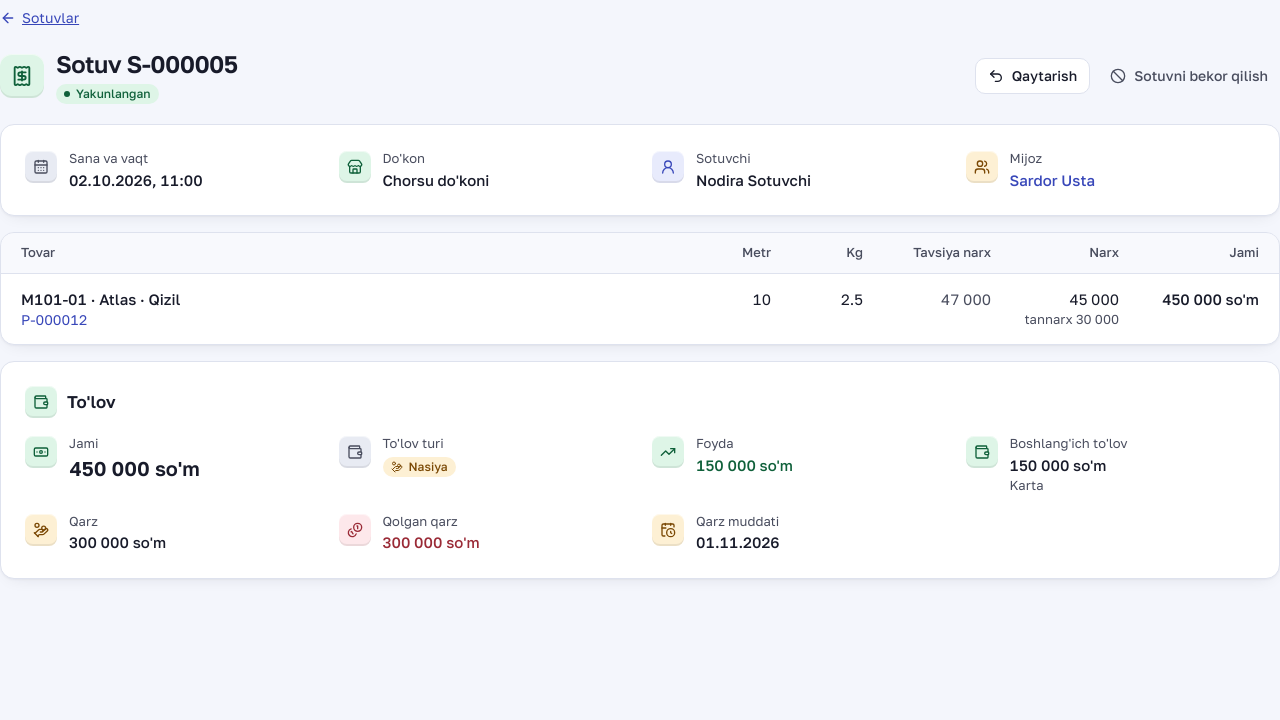
Test: Sotuv kartochkasi › qaytarish: summa avval qarzdan ayriladi, qolgani pul bilan
Click the button "Qaytarish": (1032, 76) [975,58,1090,94]
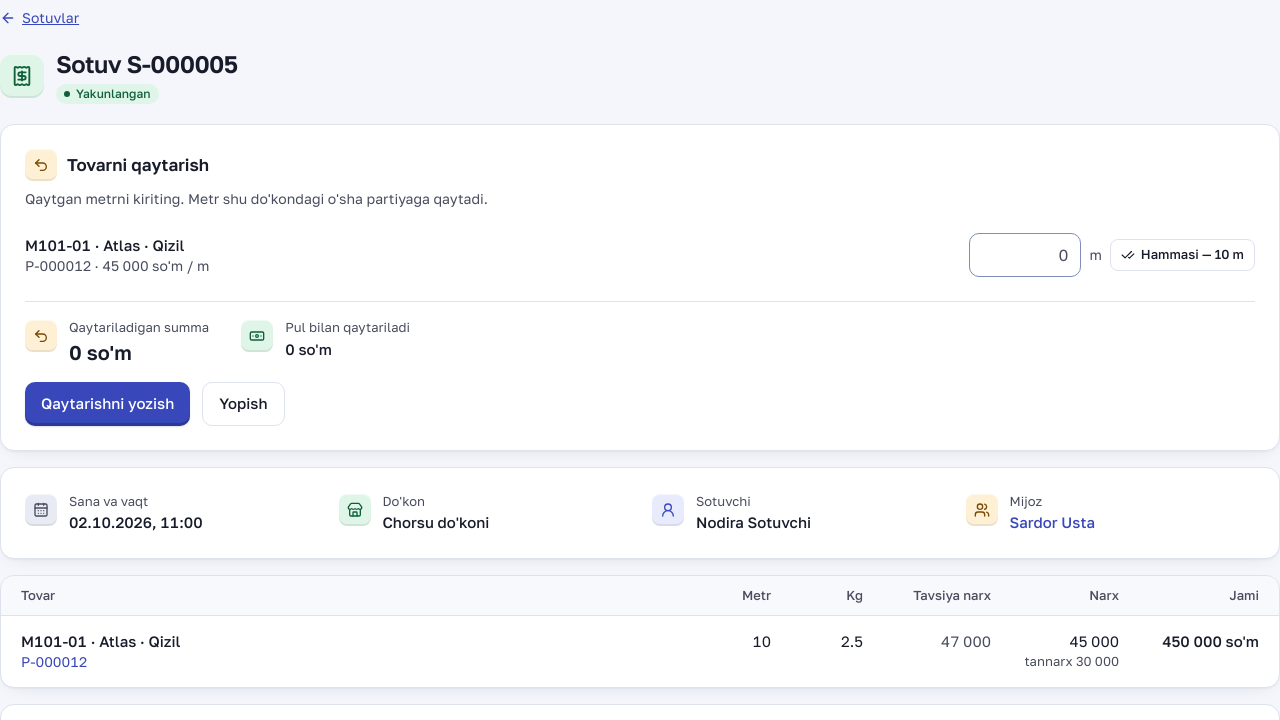
In the field named "M101-01 · Atlas · Qizil: qaytgan metr": (1025, 255) [969,233,1081,277], type "4"
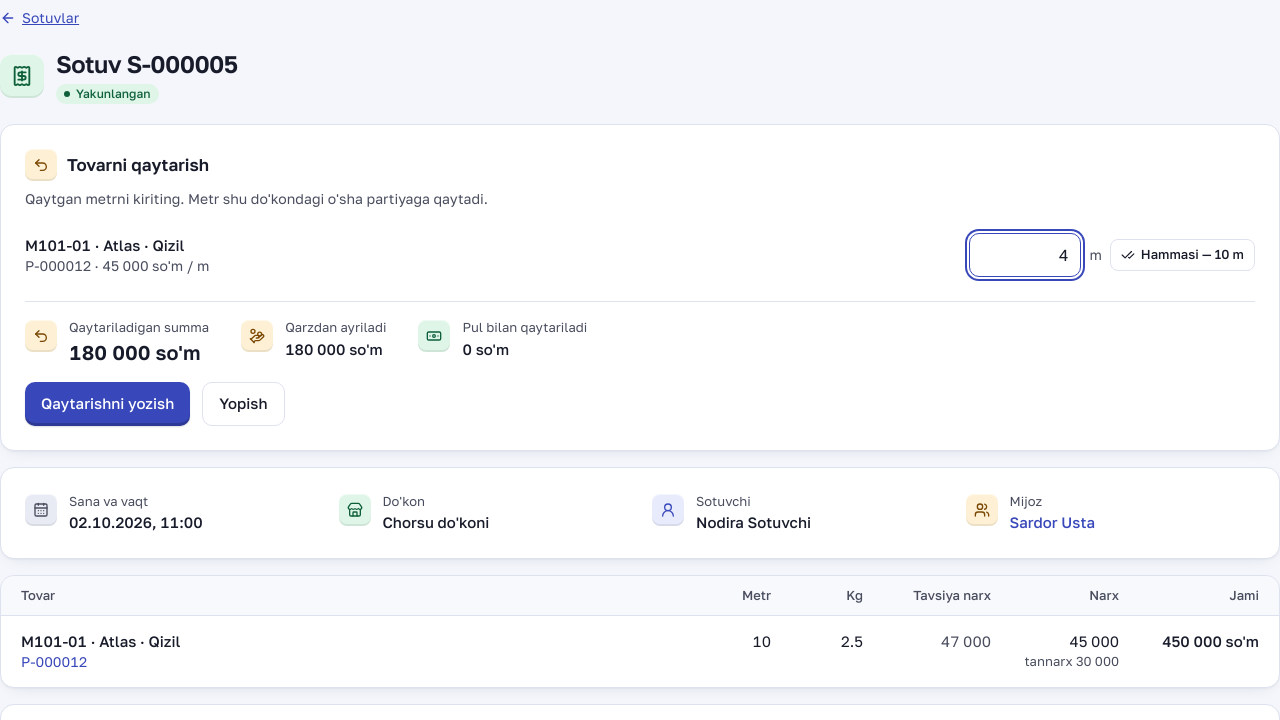
Expected: the element "Pul qanday qaytariladi" is not shown
Expected: the element showing "180 000 so'm" below "Qarzdan ayriladi" is shown, [285,338,386,360]
Click the button "Hammasi — 10 m": (1182, 255) [1110,239,1255,271]
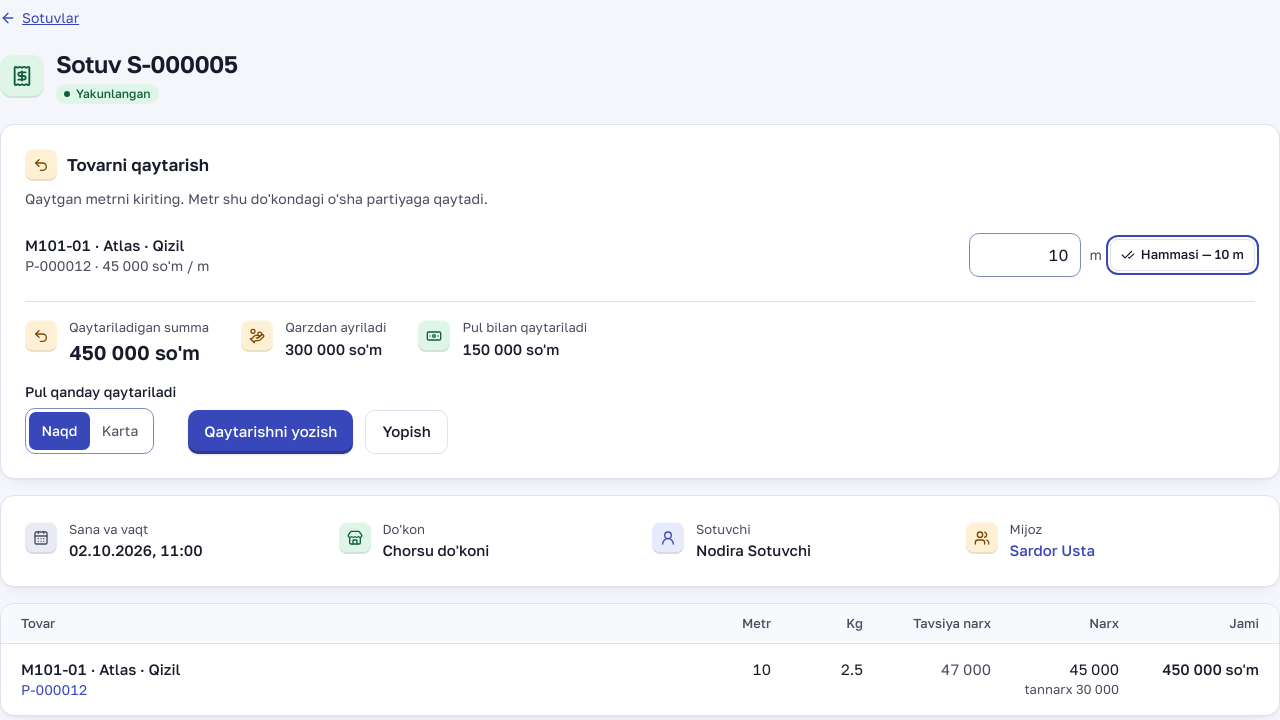
Expected: the field named "M101-01 · Atlas · Qizil: qaytgan metr" holds "10", [969,233,1081,277]
Expected: the element showing "300 000 so'm" is shown, [285,338,386,360]
Expected: the element showing "150 000 so'm" is shown, [462,340,560,358]
Click the radio button labelled "Karta": (120, 430) [90,412,150,450]
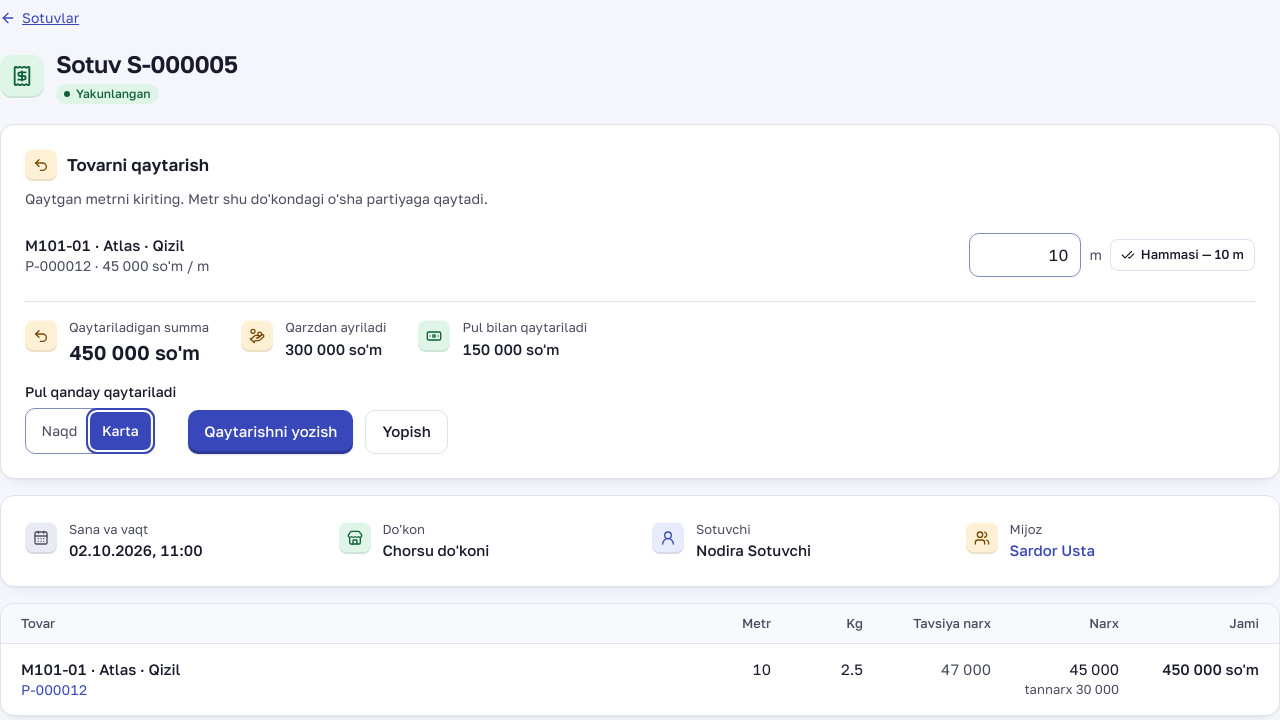
Click the button "Qaytarishni yozish": (271, 432) [188,410,353,454]
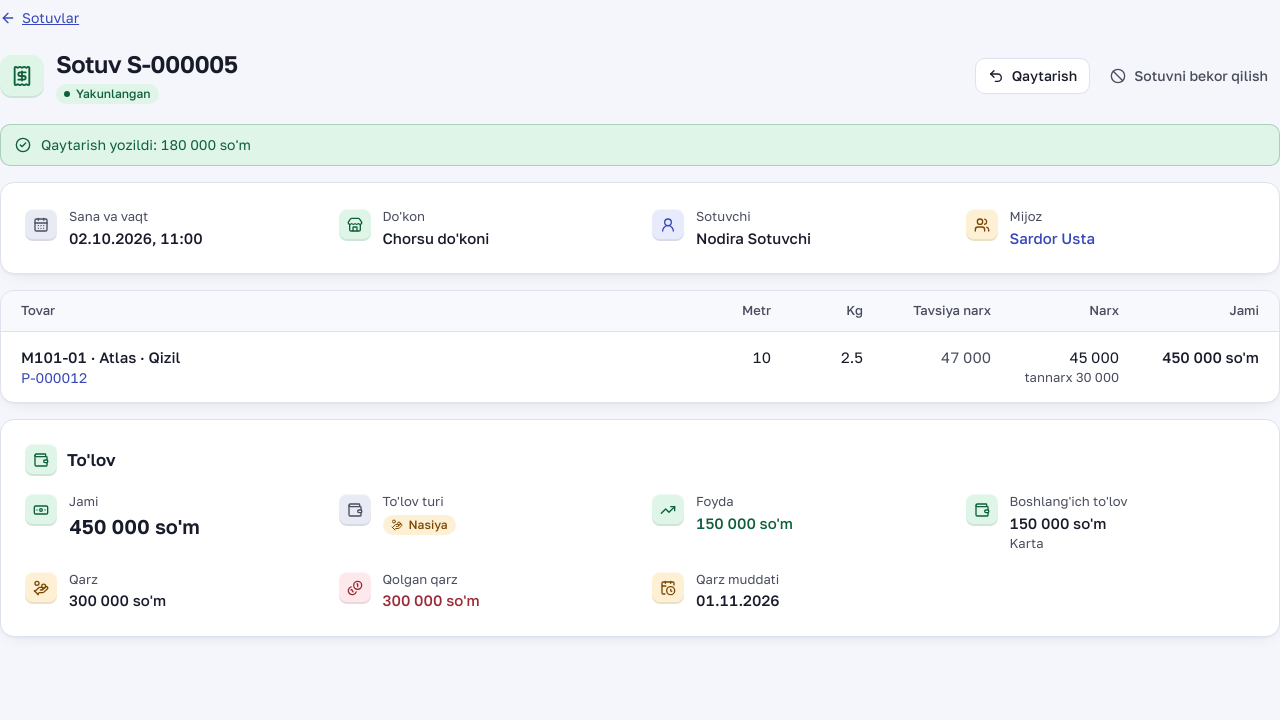
Expected: the text "Qaytarish yozildi: 180 000 so'm" is shown, [41,135,251,155]
